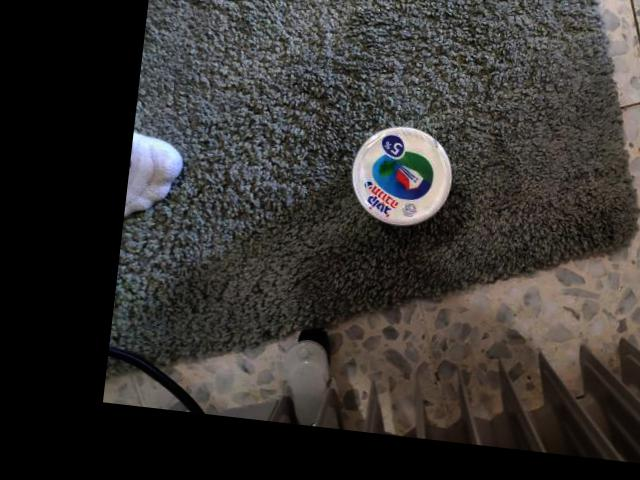cotage: (350, 120, 461, 233)
